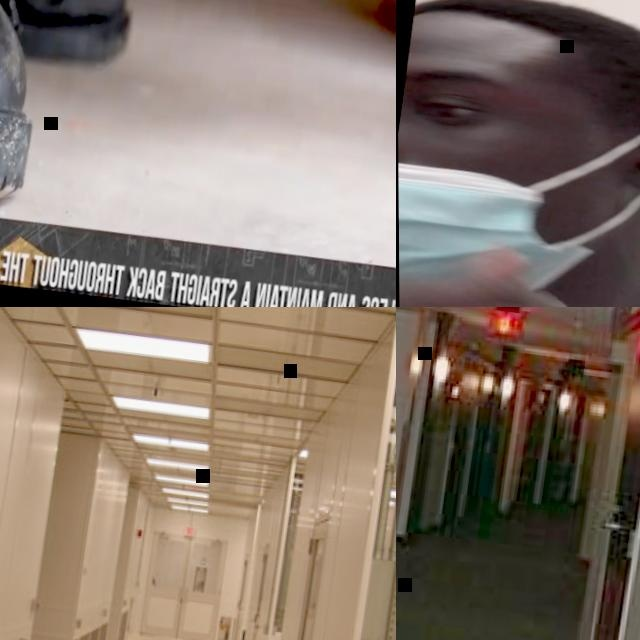Mask: (397, 92, 640, 307)
NO-Hardhat: (408, 0, 640, 88)
Person: (0, 0, 396, 259), (396, 0, 640, 307)
